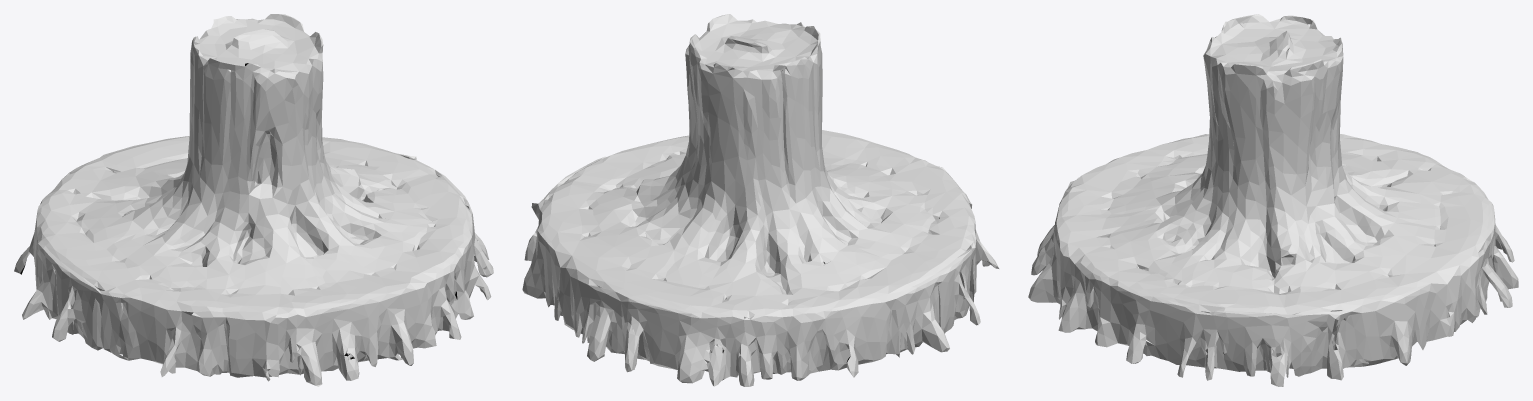
The model's file is stump_dark_r2.glb.
The picture shows the model from 3 angles, left to right: view 1: azimuth 30°, elevation 25°; view 2: azimuth 150°, elevation 25°; view 3: azimuth 270°, elevation 25°; orthographic projection.
Visible parts, largest first — view 1: Low; view 2: Low; view 3: Low.
Boxes of the visible parts, x1=… form: Low: x1=14, y1=14, x2=493, y2=386; Low: x1=522, y1=14, x2=999, y2=386; Low: x1=1028, y1=14, x2=1518, y2=386.
Size of the model in its own units: 1.97 by 1.12 by 1.97.
Materials: 1 (1 with a texture image).
